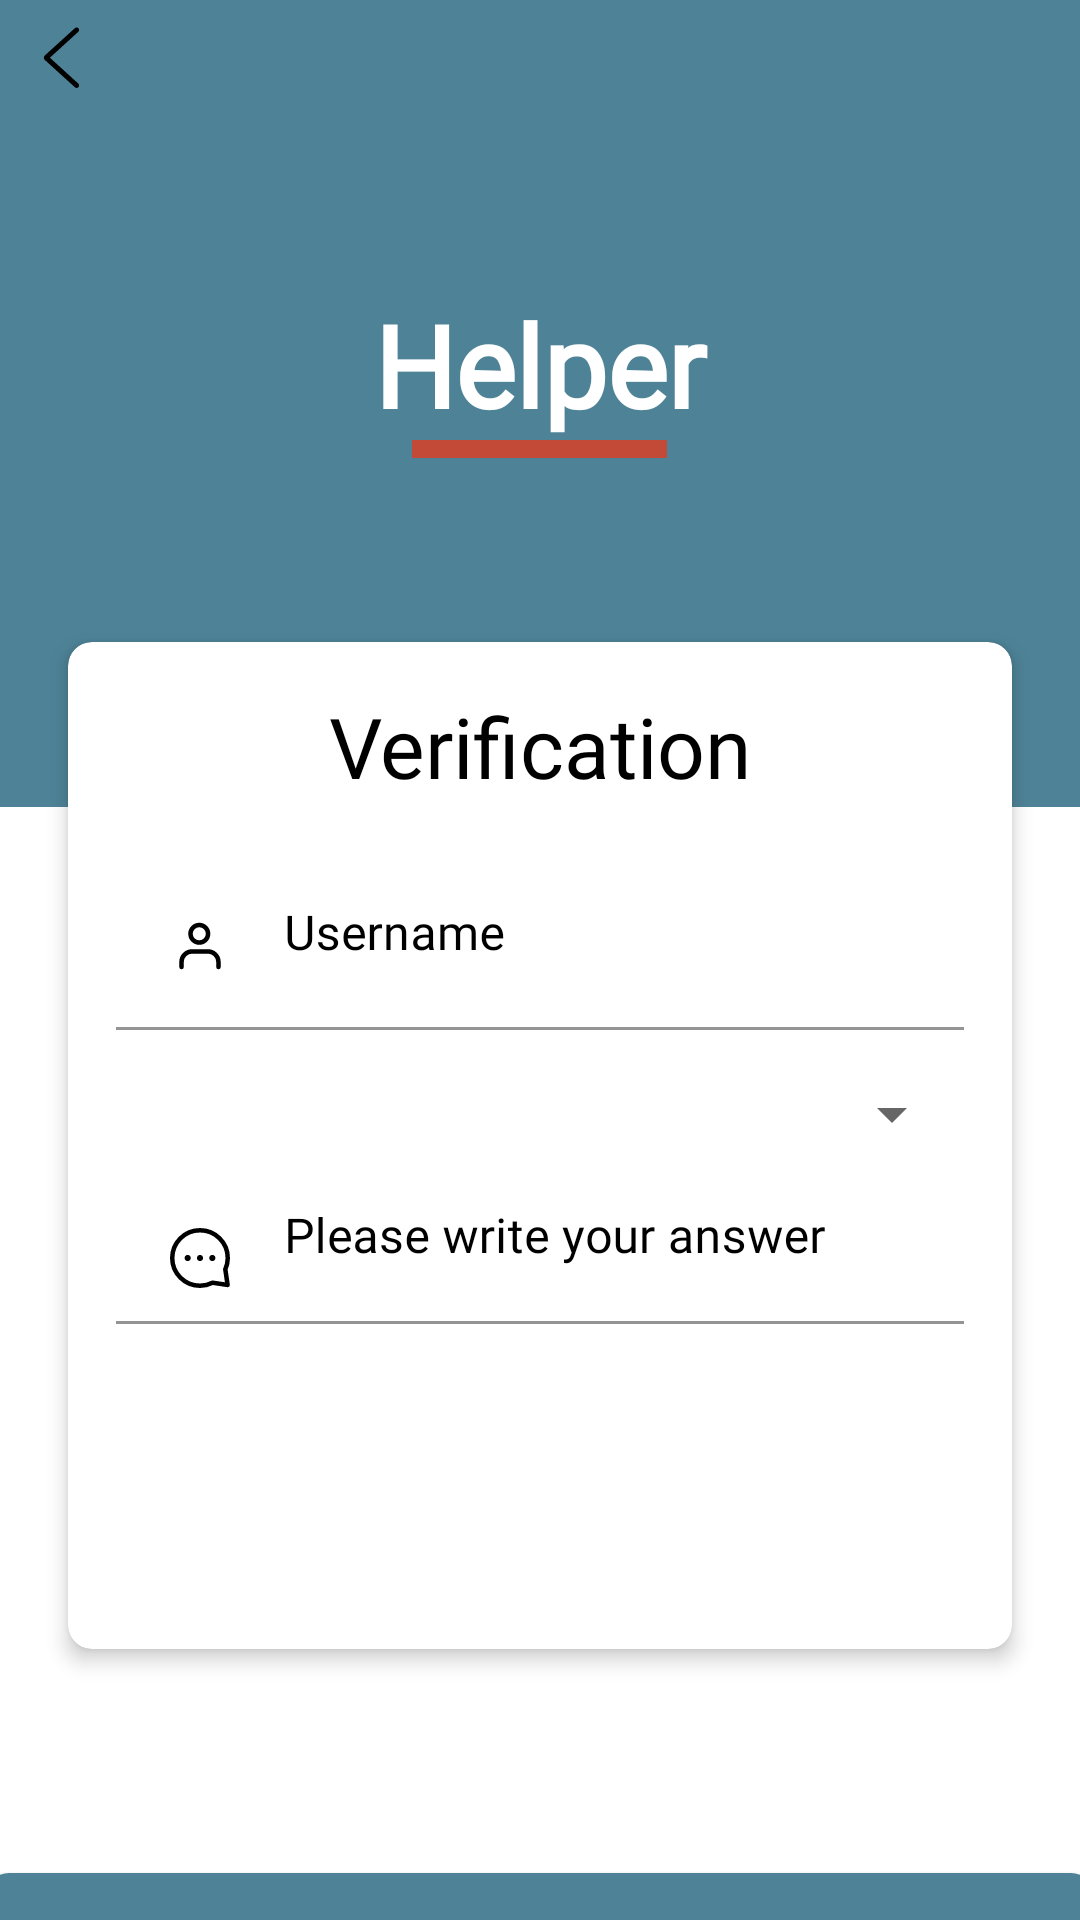

Icon click points for this 1080*1920 phone screenshot, format (x,y):
goback: (61,57)
